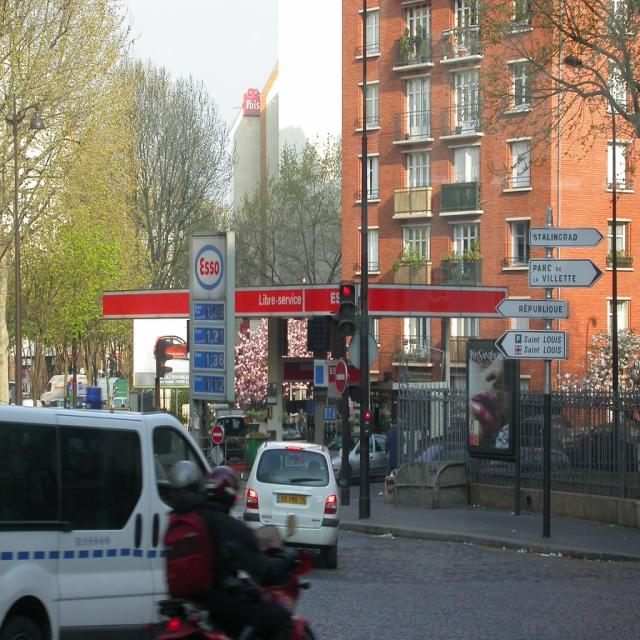esso: (193, 242, 230, 293)
